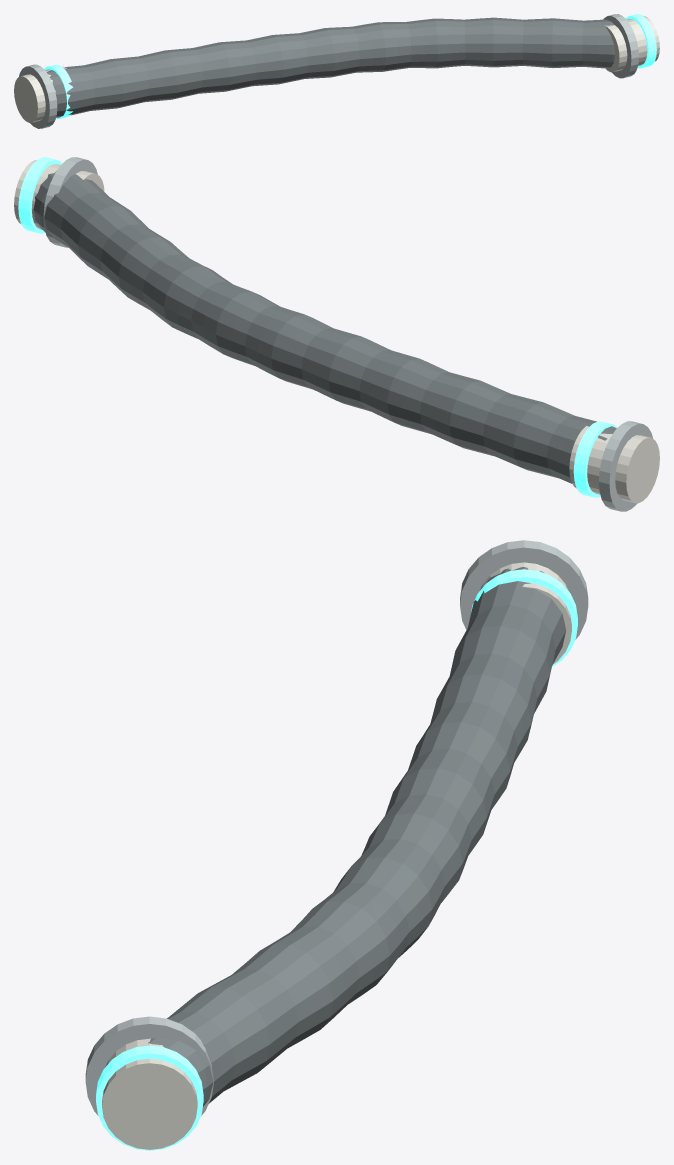
File: s7-i03-hose-bend-30.glb
3 views of the same model, one above another, from view 1: azimuth 30°, elevation 25°; view 2: azimuth 150°, elevation 25°; view 3: azimuth 270°, elevation 25° (orthographic). The views are drawn at different scales.
Parts seen in each view (by area): view 1: 000_actual_curved_hose_swept_3d, 001_end_0_sealing_socket, 004_end_1_sealing_socket, 003_end_0_locking_collar, 006_end_1_locking_collar, 005_end_1_cyan_snap_seal, 002_end_0_cyan_snap_seal; view 2: 000_actual_curved_hose_swept_3d, 001_end_0_sealing_socket, 003_end_0_locking_collar, 005_end_1_cyan_snap_seal, 002_end_0_cyan_snap_seal, 006_end_1_locking_collar, 004_end_1_sealing_socket; view 3: 000_actual_curved_hose_swept_3d, 004_end_1_sealing_socket, 003_end_0_locking_collar, 006_end_1_locking_collar, 005_end_1_cyan_snap_seal, 002_end_0_cyan_snap_seal, 001_end_0_sealing_socket.
Part boxes in pixels (x1,y1,x2,y2): 000_actual_curved_hose_swept_3d: [45, 17, 614, 117]; 001_end_0_sealing_socket: [14, 66, 66, 122]; 004_end_1_sealing_socket: [604, 16, 659, 72]; 003_end_0_locking_collar: [19, 64, 57, 128]; 006_end_1_locking_collar: [603, 14, 638, 78]; 005_end_1_cyan_snap_seal: [625, 14, 656, 68]; 002_end_0_cyan_snap_seal: [44, 64, 73, 118]; 000_actual_curved_hose_swept_3d: [33, 171, 616, 483]; 001_end_0_sealing_socket: [569, 426, 659, 503]; 003_end_0_locking_collar: [599, 421, 653, 511]; 005_end_1_cyan_snap_seal: [18, 157, 62, 233]; 002_end_0_cyan_snap_seal: [573, 421, 617, 497]; 006_end_1_locking_collar: [43, 157, 97, 247]; 004_end_1_sealing_socket: [14, 160, 104, 229]; 000_actual_curved_hose_swept_3d: [148, 567, 566, 1106]; 004_end_1_sealing_socket: [102, 1038, 197, 1149]; 003_end_0_locking_collar: [460, 540, 588, 639]; 006_end_1_locking_collar: [85, 1016, 213, 1115]; 005_end_1_cyan_snap_seal: [96, 1045, 203, 1150]; 002_end_0_cyan_snap_seal: [471, 569, 577, 666]; 001_end_0_sealing_socket: [479, 562, 571, 663].
Size of the model in its own units: 0.8883 by 0.0935 by 0.366.
